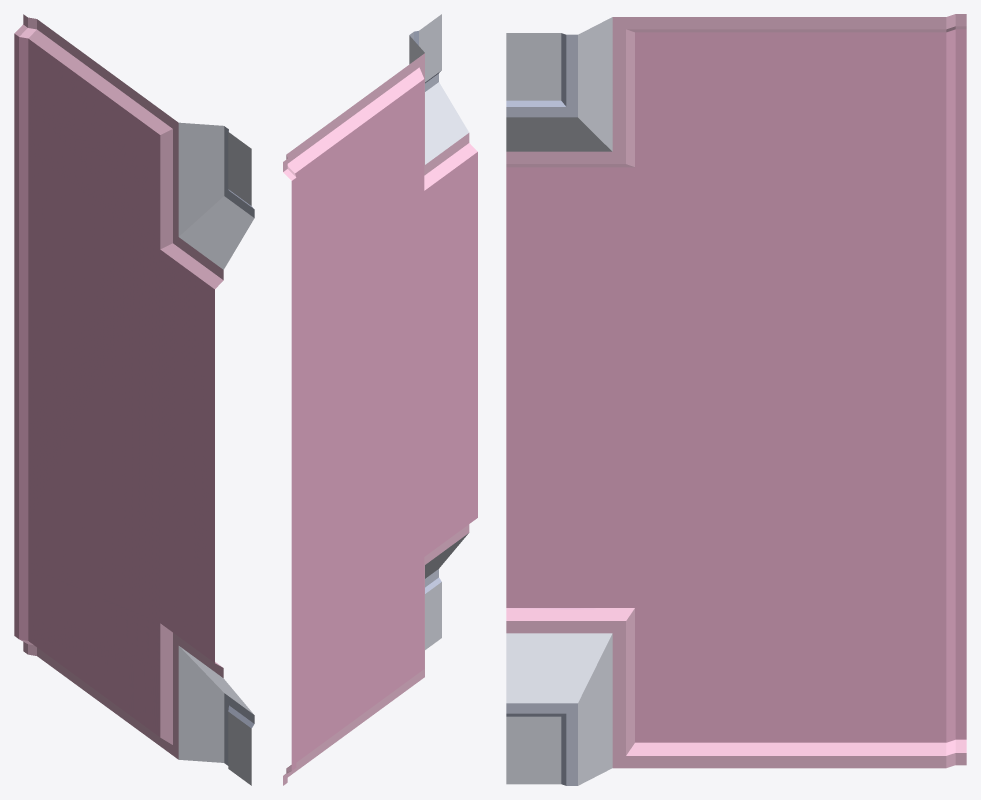
Rendered from WallPanel_MidLeft.fbx.
The picture shows the model from 3 angles, left to right: view 1: azimuth 30°, elevation 25°; view 2: azimuth 150°, elevation 25°; view 3: azimuth 270°, elevation 25°; orthographic projection. The views are drawn at different scales.
Parts seen in each view (by area): view 1: Left; view 2: Left; view 3: Left.
Part boxes in pixels (x1=…): Left: x1=14, y1=14, x2=254, y2=785; Left: x1=283, y1=14, x2=477, y2=785; Left: x1=506, y1=14, x2=966, y2=785.
Bounding box in the file's own units: 26.53 × 360 × 200.
1 material, 1 textured.
